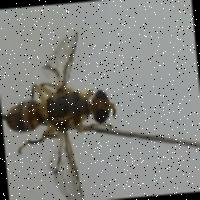Oriental-fruit-fly: (0, 30, 125, 200)
